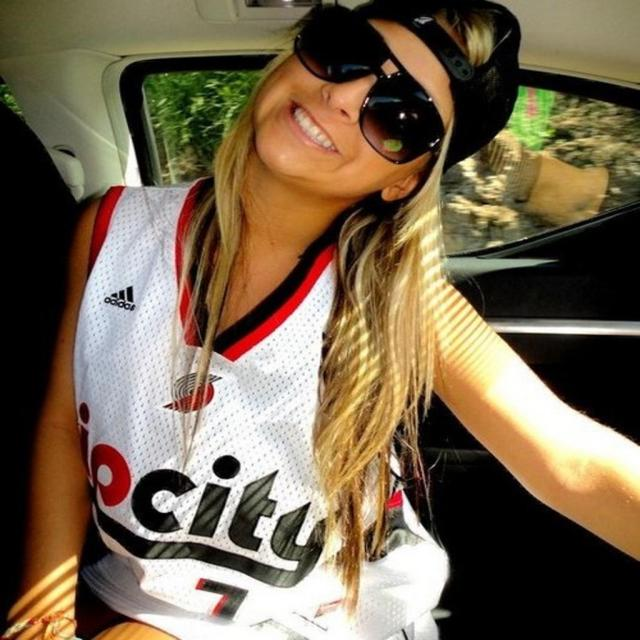Face: (247, 23, 460, 203)
